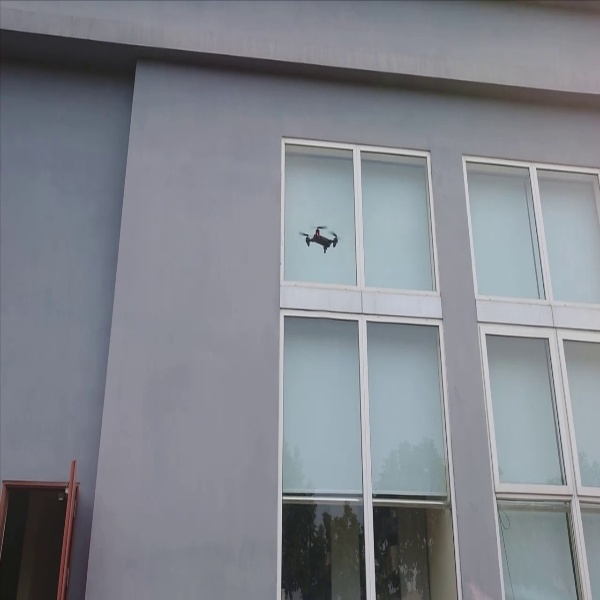drone: (293, 216, 344, 258)
